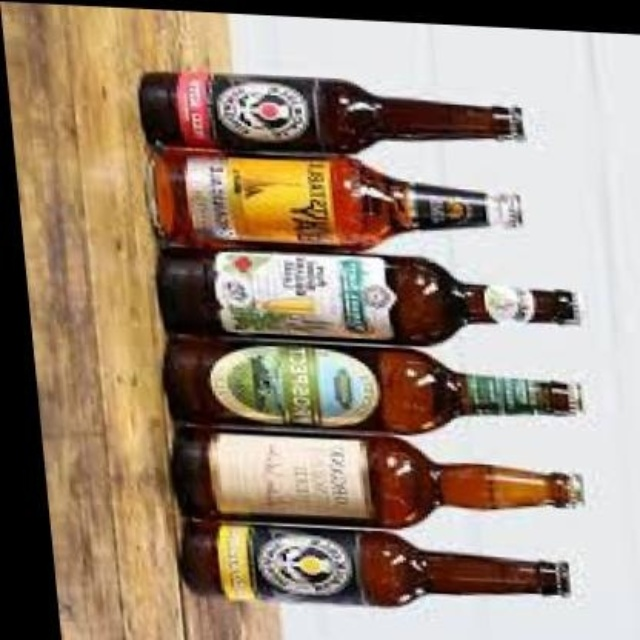trash: (174, 428, 582, 526), (158, 251, 575, 345), (180, 520, 569, 605), (152, 151, 488, 249), (140, 72, 522, 152)
